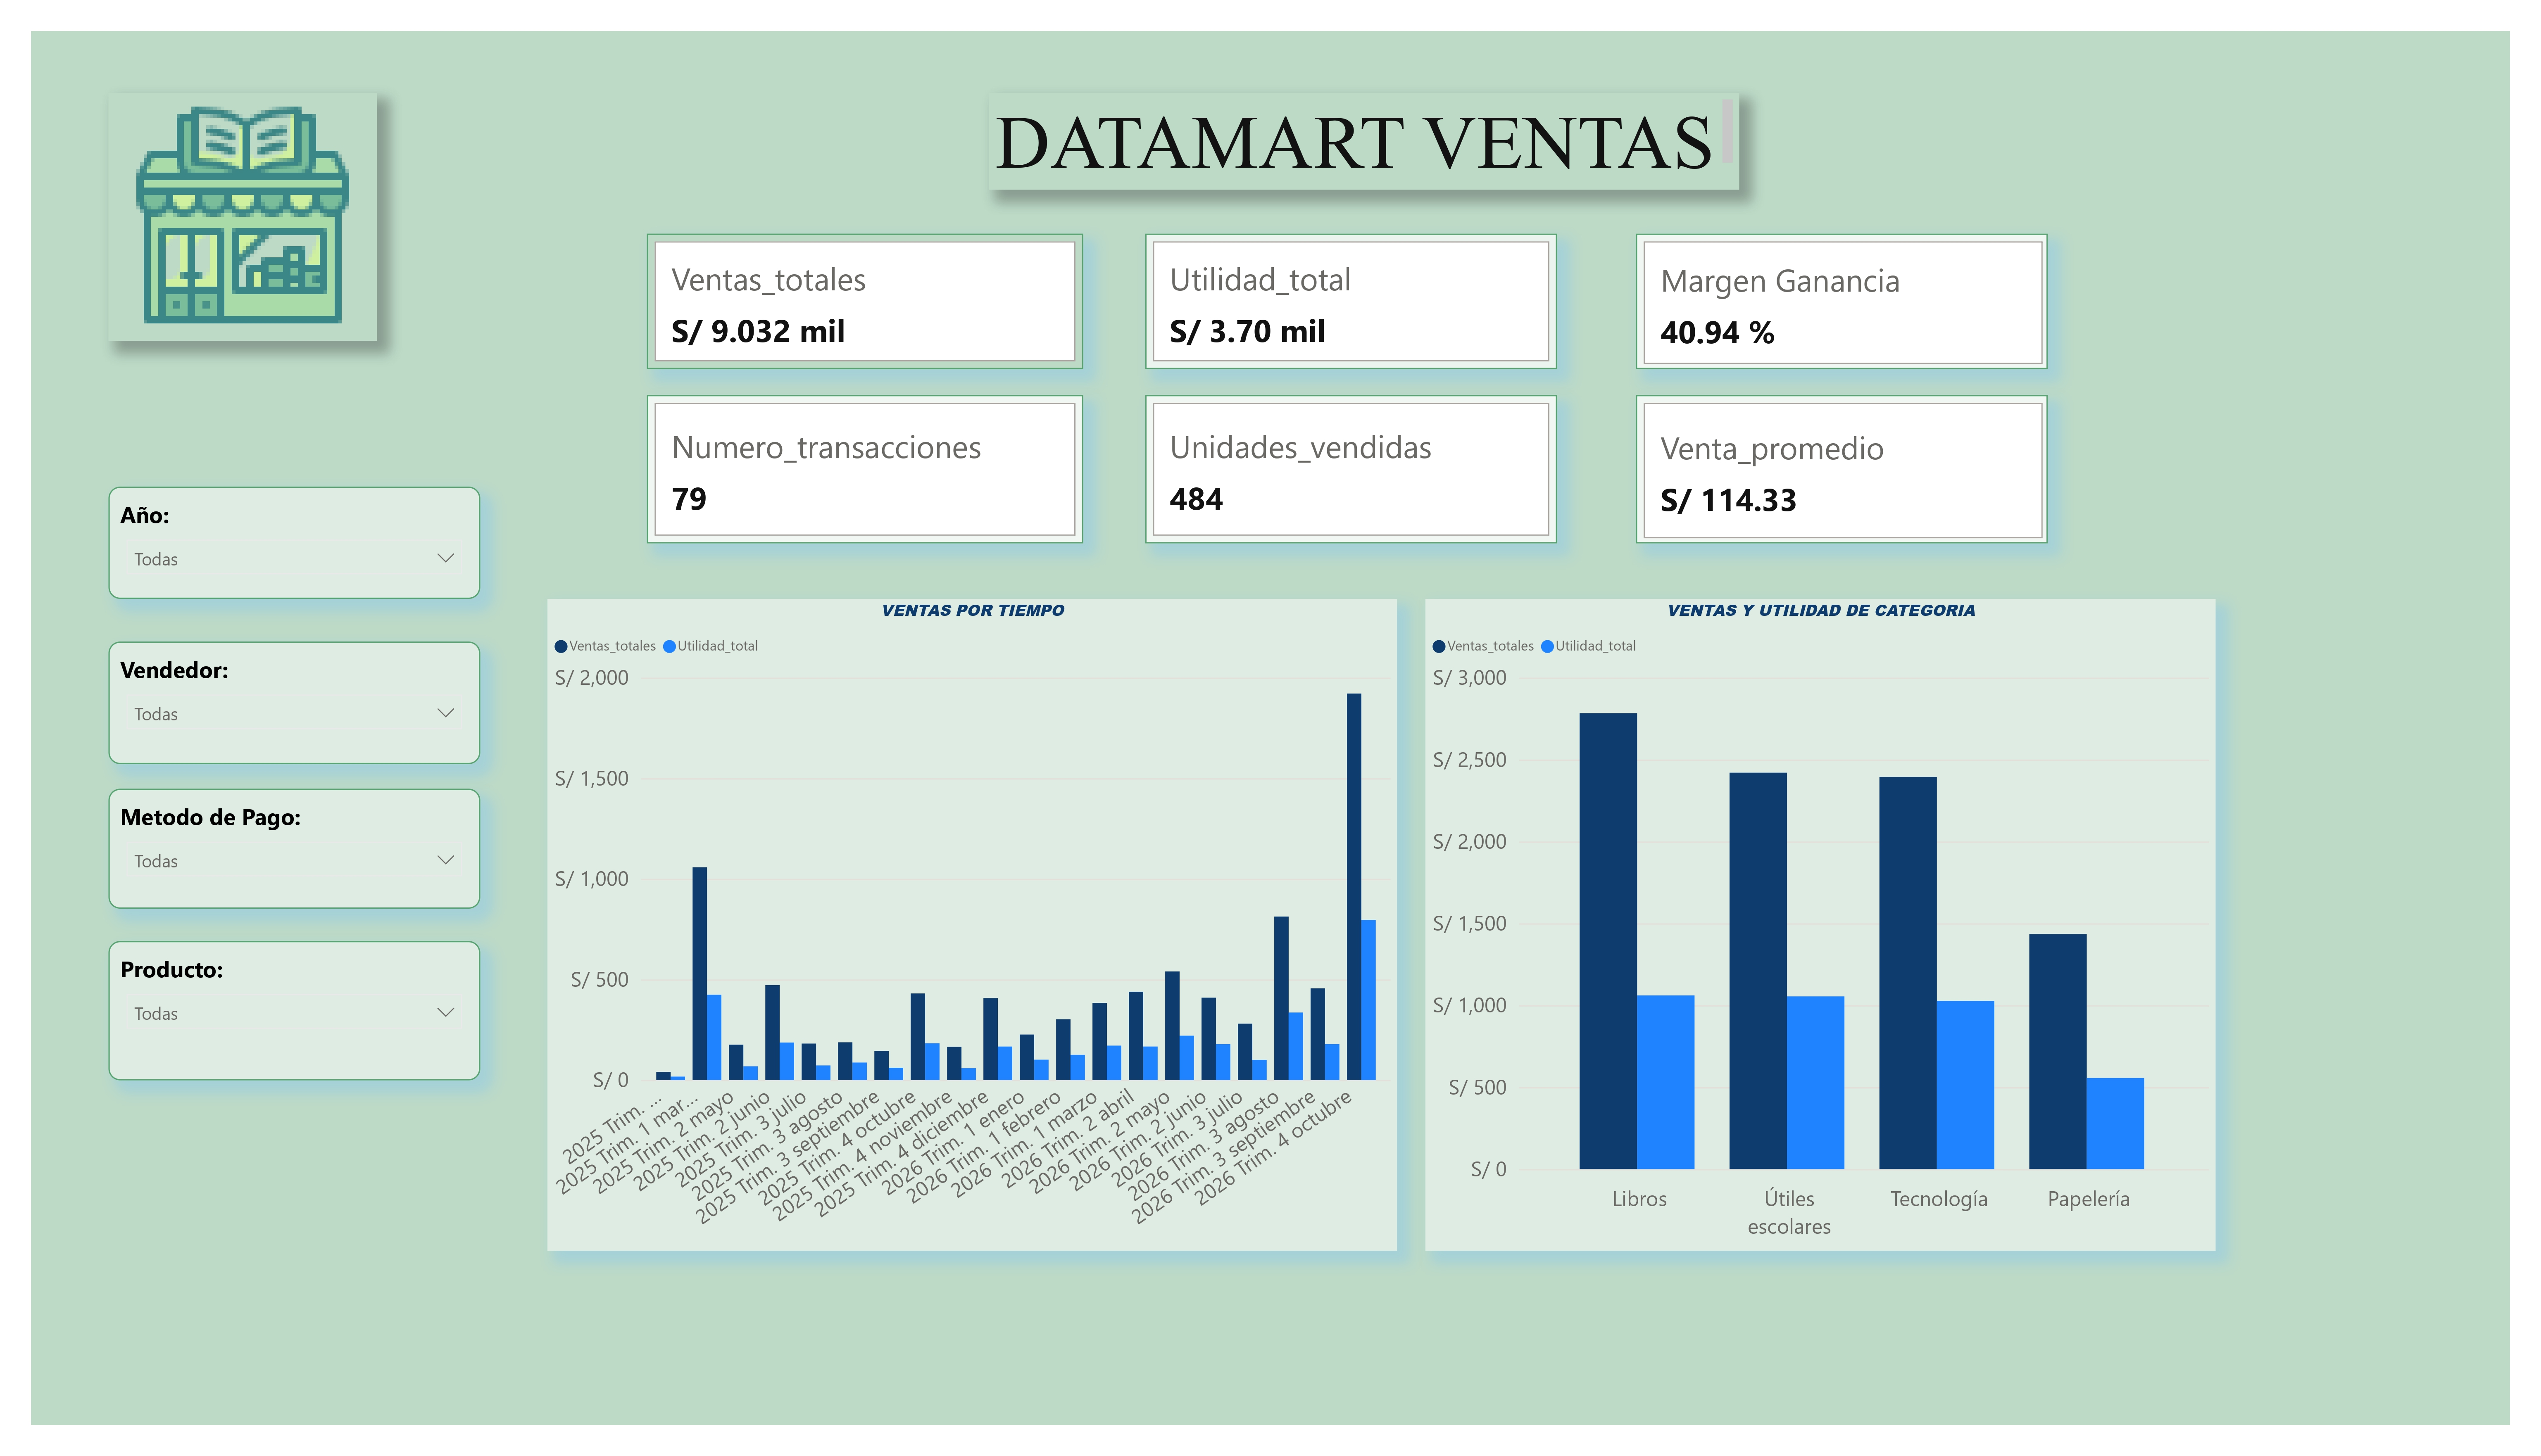

The dashboard page shown, as its layout file describes it:
{"tool":"powerbi","page":{"name":"RESUMEN","canvas":[1920,1080],"ordinal":0},"visuals":[{"type":"cardVisual","title":"VENTAS TOTALES","fields":{"Data":["fac_ventas.Ventas_totales"]},"box":[476.7,156.7,338.3,105],"z":0},{"type":"clusteredColumnChart","title":"VENTAS POR TIEMPO","fields":{"Category":["dim_tiempo.fecha.Variación.Jerarquía de fechas.Año","dim_tiempo.fecha.Variación.Jerarquía de fechas.Trimestre","dim_tiempo.fecha.Variación.Jerarquía de fechas.Mes"],"Y":["fac_ventas.Ventas_totales","fac_ventas.Utilidad_total"]},"box":[400,440,658.3,505],"z":1000},{"type":"cardVisual","fields":{"Data":["fac_ventas.Utilidad_total"]},"box":[863.3,156.7,318.3,105],"z":2000},{"type":"cardVisual","fields":{"Data":["fac_ventas.Margen Ganancia"]},"box":[1243.3,156.7,318.3,105],"z":3000},{"type":"cardVisual","fields":{"Data":["fac_ventas.Numero_transacciones"]},"box":[476.7,281.7,338.3,115],"z":4000},{"type":"cardVisual","fields":{"Data":["fac_ventas.Unidades_vendidas"]},"box":[863.3,281.7,318.3,115],"z":5000},{"type":"cardVisual","fields":{"Data":["fac_ventas.Venta_promedio"]},"box":[1243.3,281.7,318.3,115],"z":6000},{"type":"clusteredColumnChart","title":"VENTAS Y UTILIDAD DE CATEGORIA","fields":{"Category":["dim_producto.categoria"],"Y":["fac_ventas.Ventas_totales","fac_ventas.Utilidad_total"]},"box":[1080,440,611.7,505],"z":7000},{"type":"slicer","fields":{"Values":["dim_tiempo.anio"]},"box":[60,353.3,288.3,86.7],"z":8000},{"type":"slicer","fields":{"Values":["dim_producto.nombre"]},"box":[60,705,288.3,108.3],"z":9000},{"type":"slicer","fields":{"Values":["dim_vendedor.nombre"]},"box":[60,473.3,288.3,95],"z":10000},{"type":"slicer","fields":{"Values":["dim_metodoPago.nombreMetodo"]},"box":[60,586.7,288.3,93.3],"z":11000},{"type":"image","box":[60,48.3,208.3,191.7],"z":12000},{"type":"textbox","box":[741.7,48.3,581.7,75],"z":13000}]}

Visuals, with their boxes on the page's 1920x1080 design canvas (x1, y1, x2, y2). These are canvas units, not pixel positions in the 2541x1456 screenshot, which may show the page scaled, cropped or inside an application window:
"VENTAS TOTALES" cardVisual: (477,157,815,262)
"VENTAS POR TIEMPO" clusteredColumnChart: (400,440,1058,945)
cardVisual - fac_ventas.Utilidad_total: (863,157,1182,262)
cardVisual - fac_ventas.Margen Ganancia: (1243,157,1562,262)
cardVisual - fac_ventas.Numero_transacciones: (477,282,815,397)
cardVisual - fac_ventas.Unidades_vendidas: (863,282,1182,397)
cardVisual - fac_ventas.Venta_promedio: (1243,282,1562,397)
"VENTAS Y UTILIDAD DE CATEGORIA" clusteredColumnChart: (1080,440,1692,945)
slicer - dim_tiempo.anio: (60,353,348,440)
slicer - dim_producto.nombre: (60,705,348,813)
slicer - dim_vendedor.nombre: (60,473,348,568)
slicer - dim_metodoPago.nombreMetodo: (60,587,348,680)
image: (60,48,268,240)
textbox: (742,48,1323,123)
